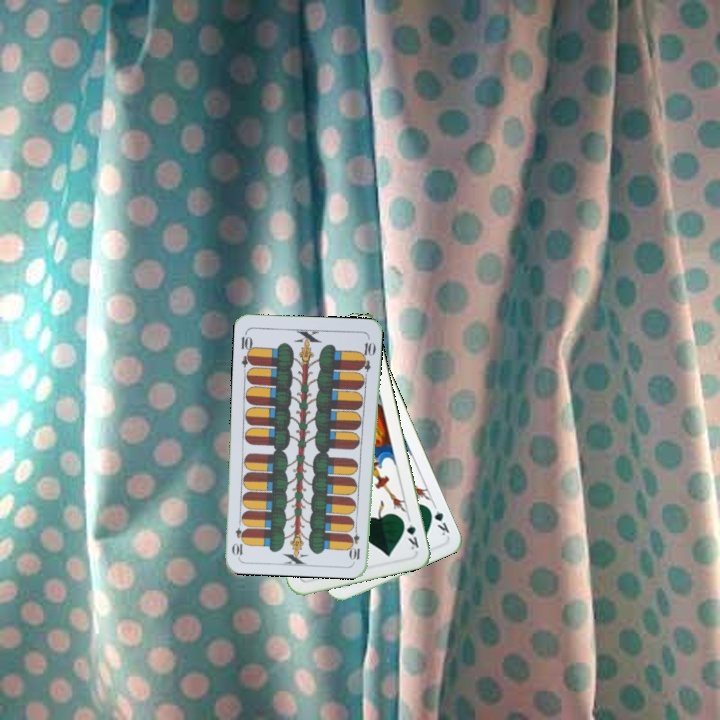E10: (237, 328, 256, 369), (348, 522, 363, 562)
GK: (424, 500, 452, 538), (398, 513, 421, 552)
